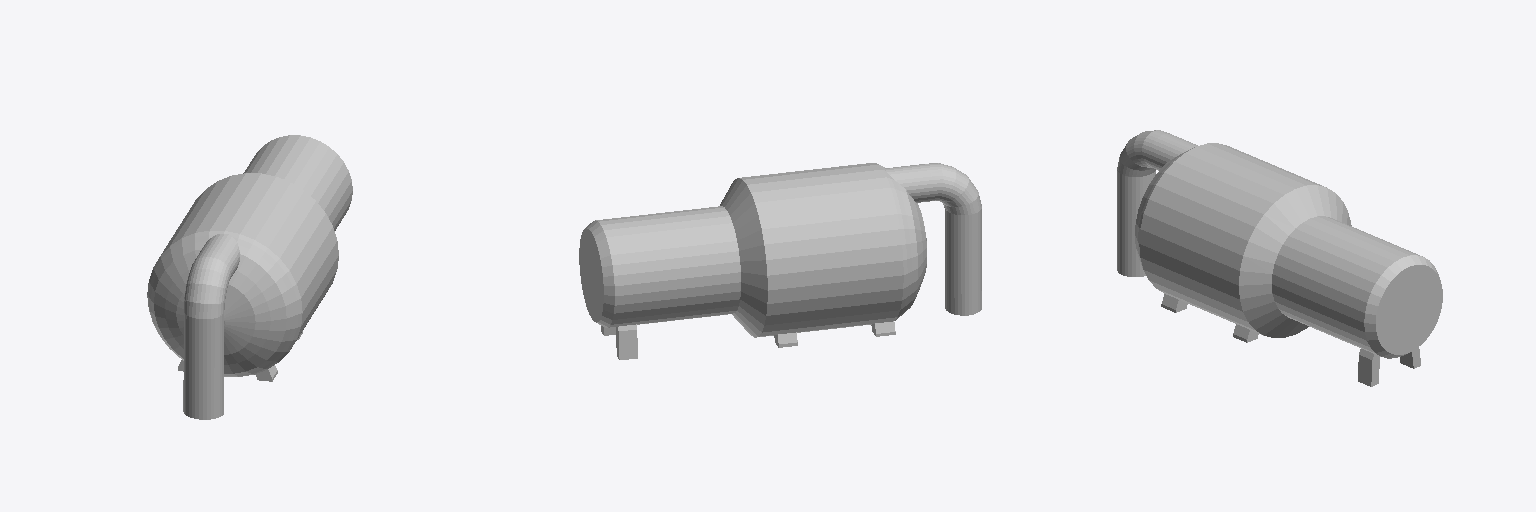
Rendered from pumpe.obj.
The picture shows the model from 3 angles: view 1: azimuth 30°, elevation 25°; view 2: azimuth 150°, elevation 25°; view 3: azimuth 270°, elevation 25°; orthographic projection.
Visible parts, largest first — view 1: Cylinder; view 2: Cylinder; view 3: Cylinder.
Part boxes in pixels (x1,y1,x2,y2): Cylinder: (147, 135, 352, 419); Cylinder: (579, 163, 981, 359); Cylinder: (1117, 130, 1442, 386).
Bounding box in the file's own units: 0.6121 × 0.3057 × 0.6136.